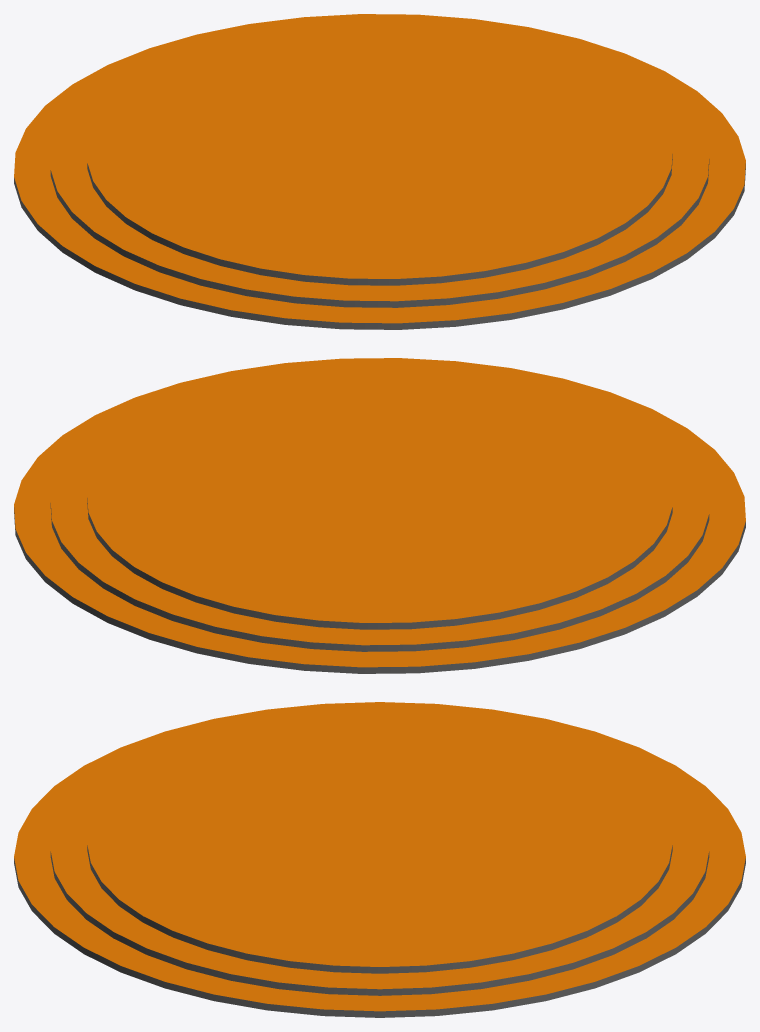
The model's file is OrangePodium.fbx.
3 views of the same model, one above another, from view 1: azimuth 30°, elevation 25°; view 2: azimuth 150°, elevation 25°; view 3: azimuth 270°, elevation 25° (orthographic).
Visible parts, largest first — view 1: Podium; view 2: Podium; view 3: Podium.
Boxes of the visible parts, x1,y1,x2,y2 form: Podium: (14, 14, 745, 329); Podium: (14, 358, 745, 673); Podium: (14, 702, 745, 1017).
Size of the model in its own units: 200 by 6 by 200.
